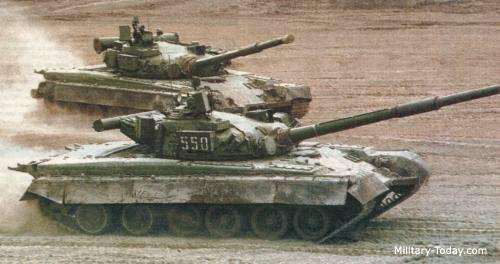tank: (8, 83, 500, 244), (30, 16, 312, 124)
